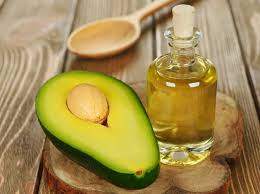aguacate: (32, 67, 169, 191)
